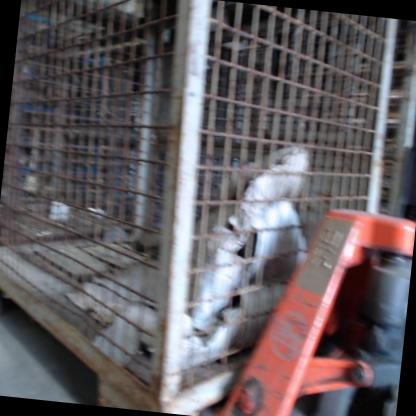pallet_truck: (199, 160, 416, 416)
stillage: (366, 19, 416, 251)
